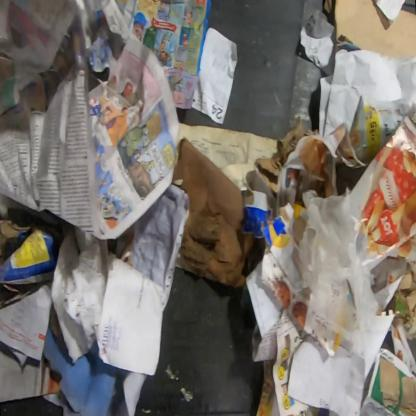cardboard: (323, 0, 416, 59), (254, 118, 319, 194), (240, 186, 306, 250), (0, 220, 56, 293)
